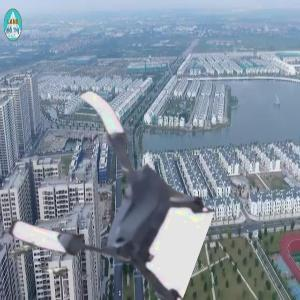drone: (19, 96, 216, 293)
